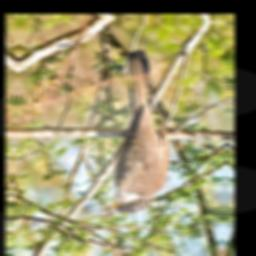Cuckoo: (100, 49, 176, 216)
